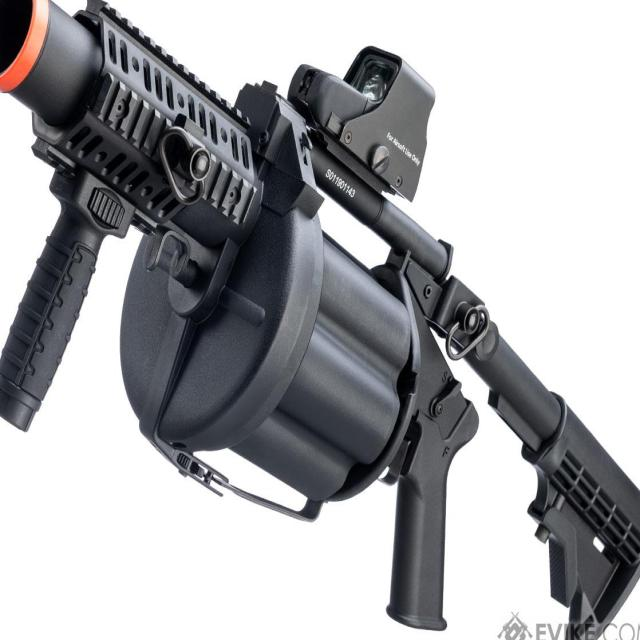Weapon: (0, 0, 640, 637)
